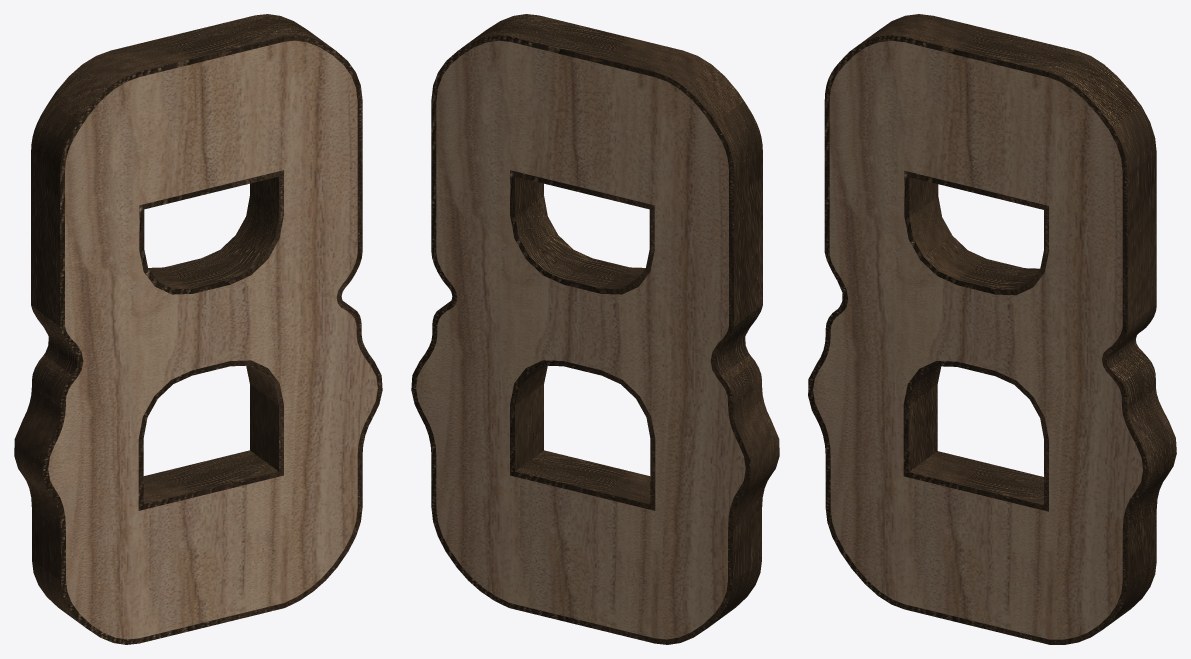
3 views of the same model, side by side, from view 1: azimuth 30°, elevation 25°; view 2: azimuth 150°, elevation 25°; view 3: azimuth 330°, elevation 25° (orthographic).
Parts seen in each view (by area): view 1: 8, 8_outline; view 2: 8, 8_outline; view 3: 8, 8_outline.
Part boxes in pixels (x1,y1,x2,y2): 8: [48, 40, 377, 639]; 8_outline: [14, 14, 382, 644]; 8: [416, 40, 745, 639]; 8_outline: [411, 14, 779, 644]; 8: [813, 40, 1143, 639]; 8_outline: [808, 14, 1176, 644].
Size of the model in its own units: 67.67 by 109 by 10.
Materials: 2 (2 with a texture image).
